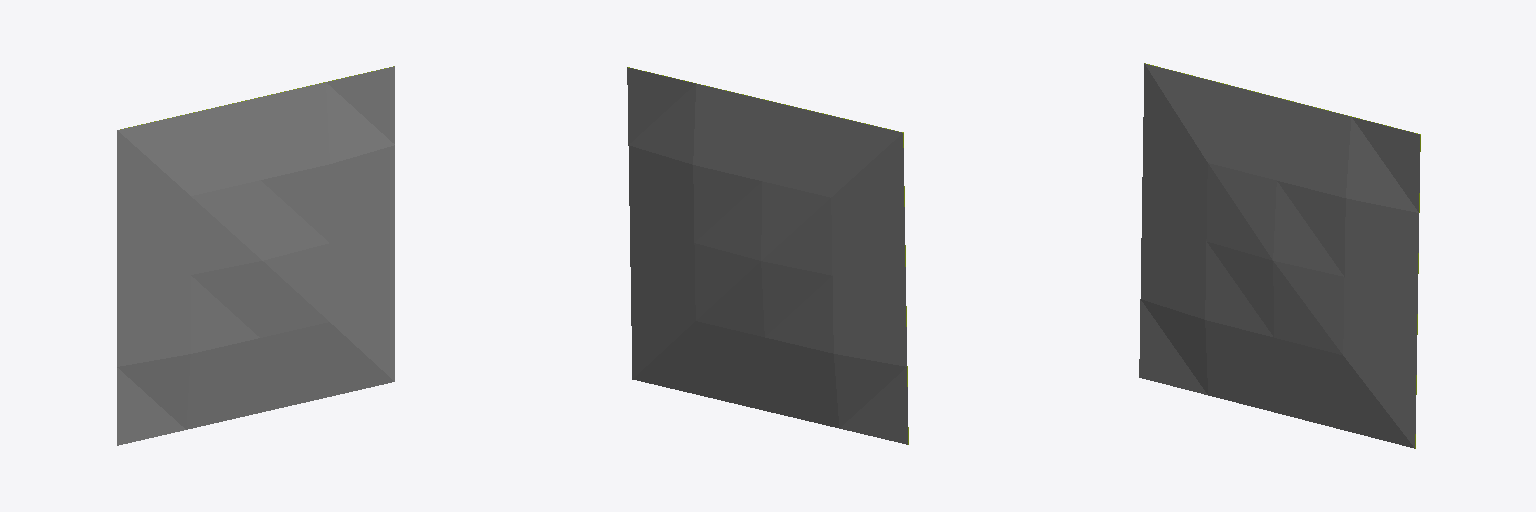
File: alcoholpad.obj
3 renders of one model, left to right at view 1: azimuth 30°, elevation 25°; view 2: azimuth 150°, elevation 25°; view 3: azimuth 330°, elevation 25°, orthographic.
Visible parts, largest first — view 1: c014; view 2: c014; view 3: c014.
Part boxes in pixels (x1,y1,x2,y2): c014: (117, 66, 394, 445); c014: (627, 67, 908, 444); c014: (1139, 63, 1420, 448).
Size of the model in its own units: 0.7838 by 0.8455 by 0.0656.